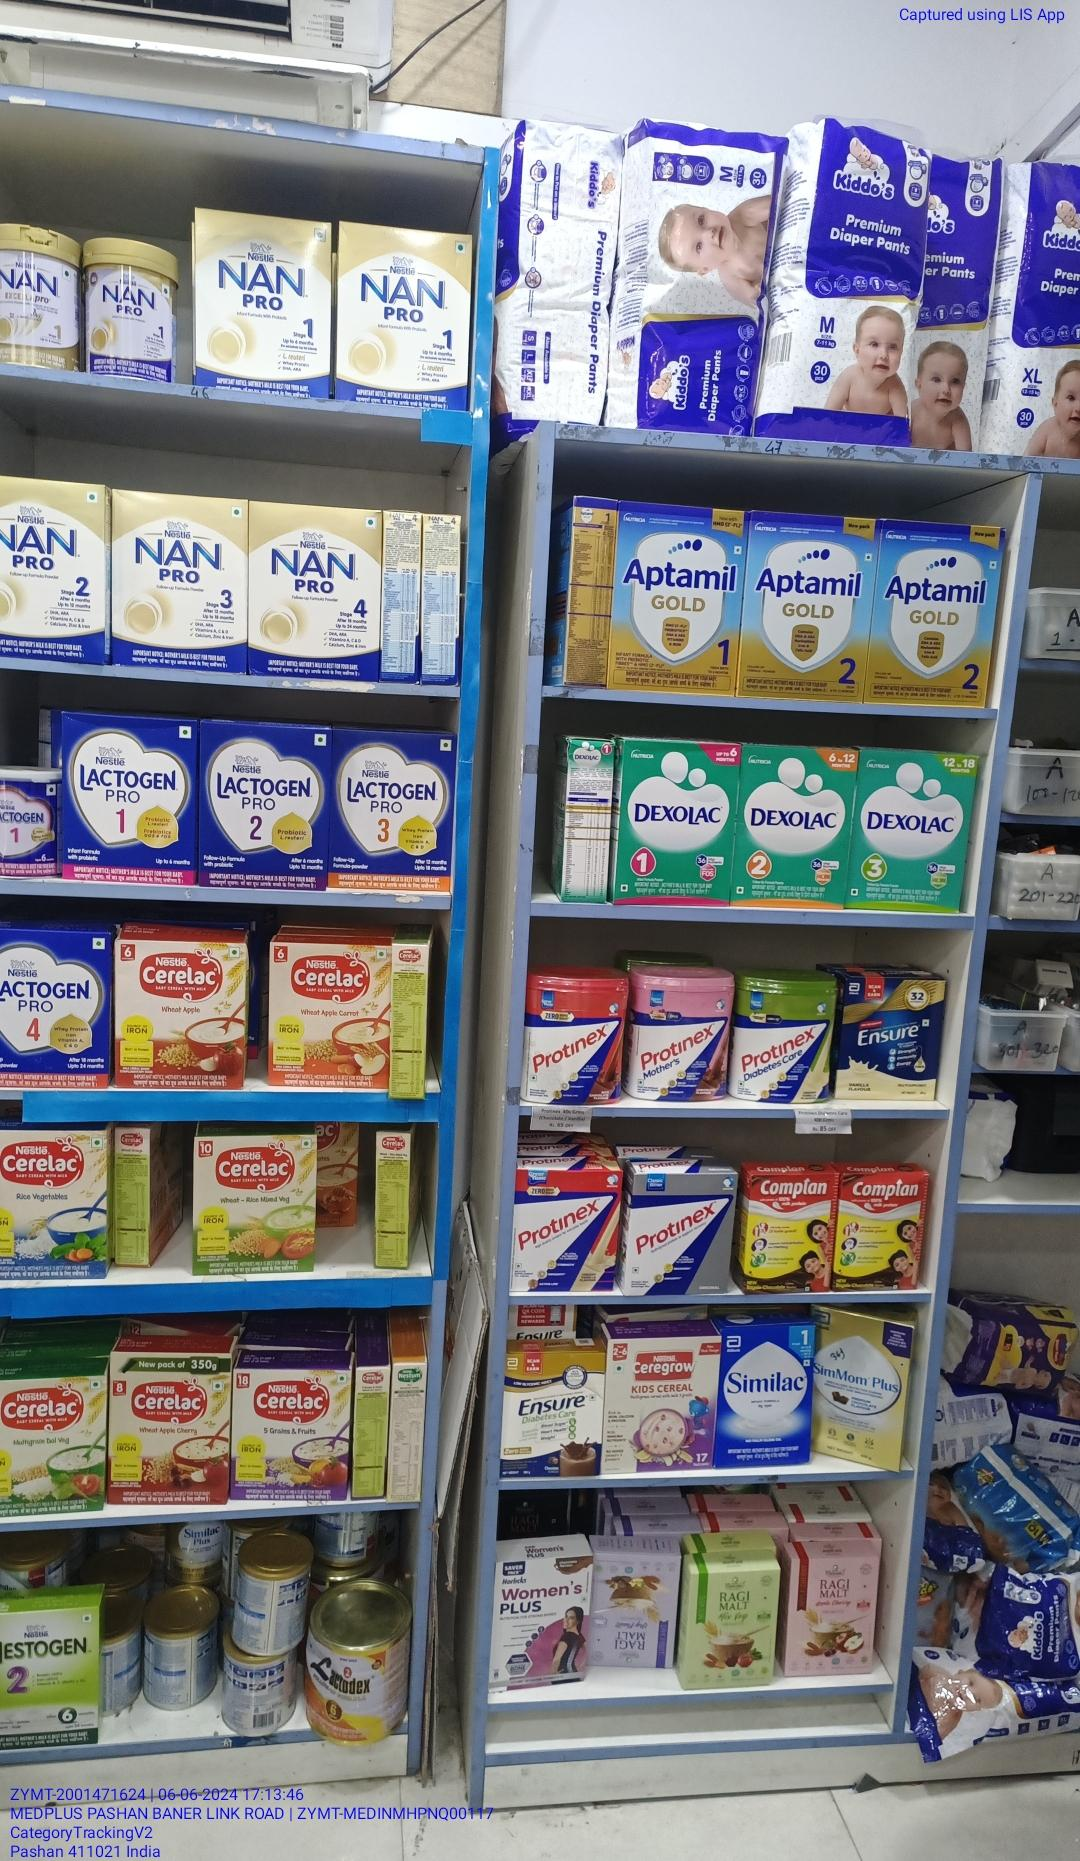COMPLAN_CHOCOLATE_500_GMS_PACK: (750, 1175, 836, 1292), (838, 1173, 922, 1285)
ENSURE_VANILLA_400_G_PACK: (842, 979, 942, 1103)
PROTINEX_CHOCOLATE_400_G_JAR: (527, 973, 636, 1108)
